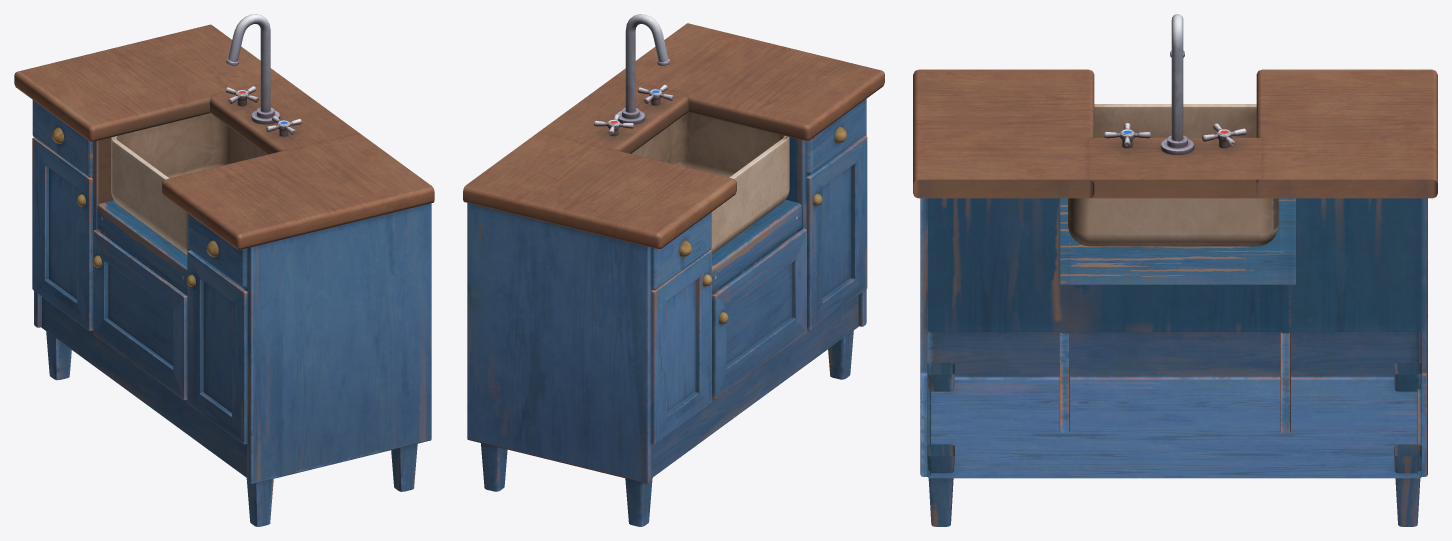
The model's file is SM_Washbasin.fbx.
The picture shows the model from 3 angles, left to right: view 1: azimuth 30°, elevation 25°; view 2: azimuth 150°, elevation 25°; view 3: azimuth 270°, elevation 25°; orthographic projection. The views are drawn at different scales.
Visible parts, largest first — view 1: SM_Washbasin_LOD0; view 2: SM_Washbasin_LOD0; view 3: SM_Washbasin_LOD0.
Boxes of the visible parts, x1,y1,x2,y2 form: SM_Washbasin_LOD0: (14,14,434,526); SM_Washbasin_LOD0: (463,14,884,526); SM_Washbasin_LOD0: (913,14,1437,526).
Size of the model in its own units: 69.86 by 139 by 139.
Materials: 1 (1 with a texture image).
